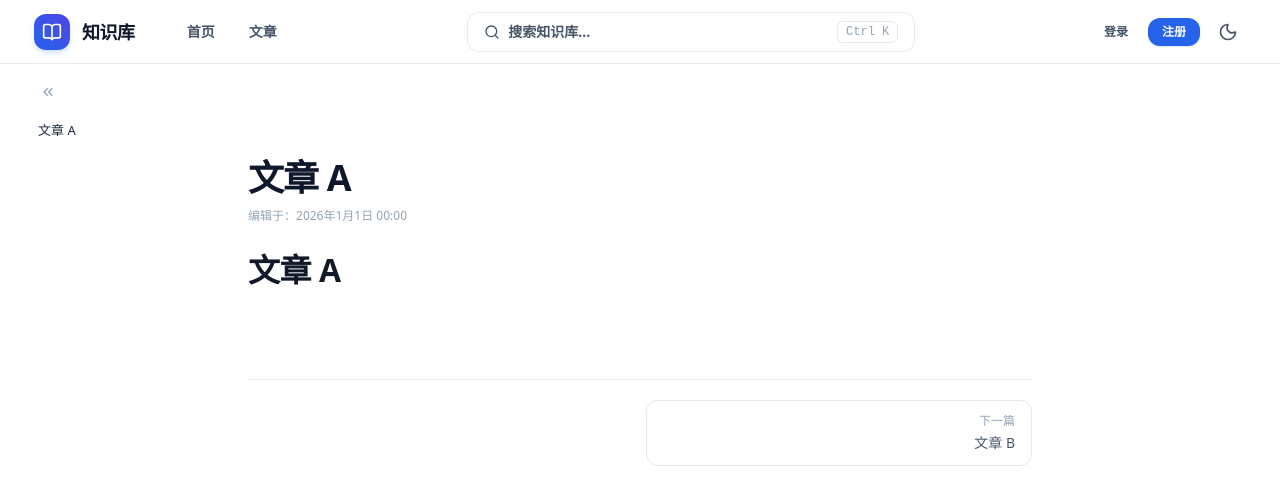
public document routing › does not let an older request overwrite the latest document
Click the link "下一篇 文章 B".
click(997, 420)  # box [646,400,1032,466]
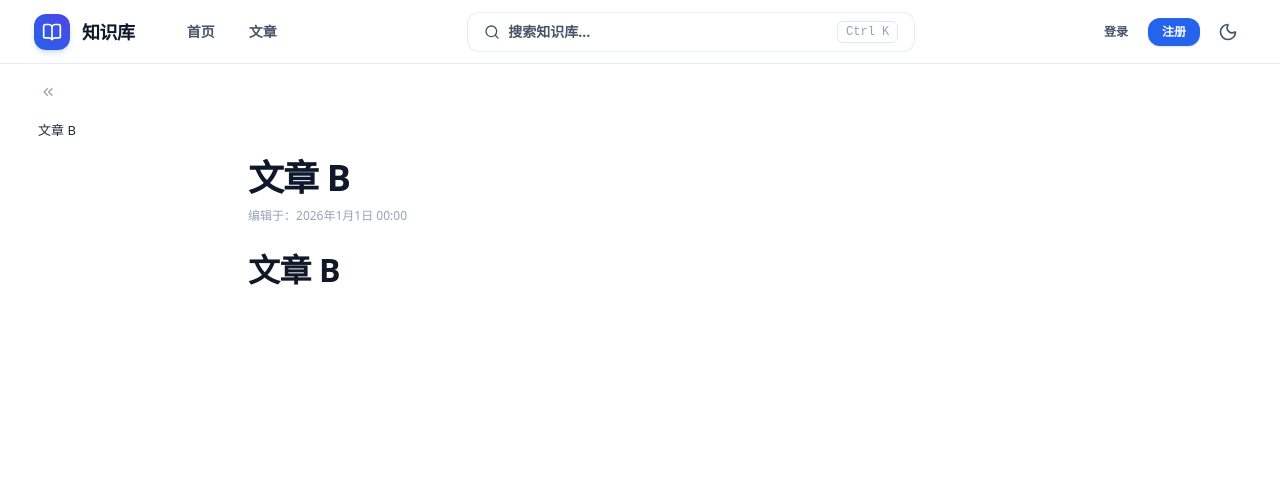
Expected: the 1st heading "文章 B" is shown, [248,153,350,202]
Expected: the link "文章 A" no longer shows "文章 A"
